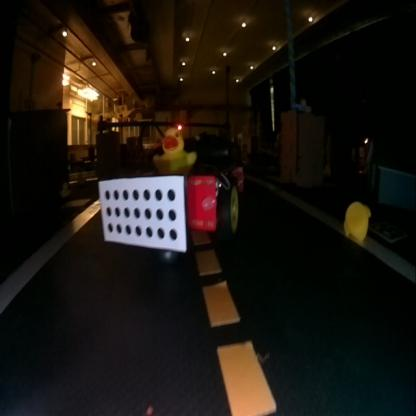Duckie: (153, 127, 195, 171), (344, 201, 370, 241)
Duckiebot: (100, 160, 238, 252)
